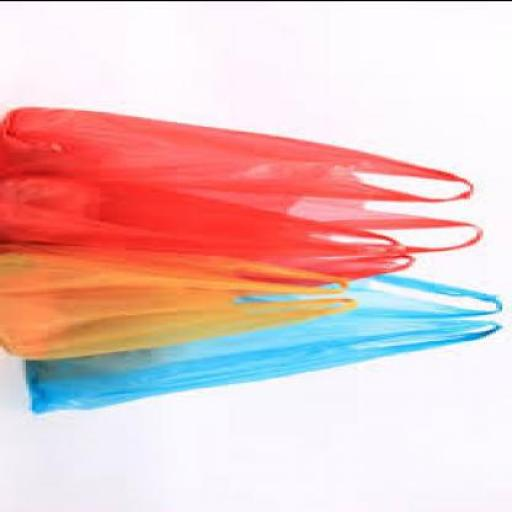plastic: (4, 108, 486, 253), (26, 272, 506, 416), (3, 174, 415, 288), (3, 244, 358, 362)
